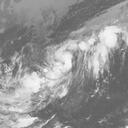cyclone: (26, 39, 92, 101)
